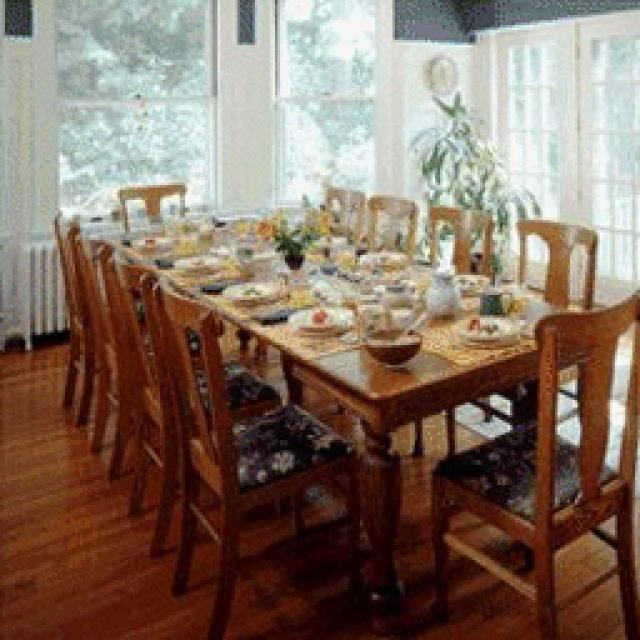2001: (275, 0, 372, 200)
bouquet: (255, 205, 328, 270)
bowl -X: (360, 325, 418, 365)
chair: (515, 218, 590, 308), (428, 202, 490, 272), (118, 182, 185, 228), (365, 195, 412, 255)
chair -occluded-: (152, 282, 358, 635), (428, 292, 638, 635), (120, 268, 175, 550), (88, 245, 130, 478), (52, 222, 95, 422)
cup and saucer: (475, 288, 510, 312)
doors crop: (472, 12, 638, 282)
pitcher: (418, 262, 455, 318)
place mat: (228, 292, 352, 355), (425, 312, 540, 360)
plant -x: (410, 105, 535, 248)
plate food: (445, 315, 518, 345), (288, 302, 350, 335), (218, 280, 280, 305), (352, 248, 408, 270), (162, 255, 220, 270)
radiator occluded: (8, 238, 68, 345)
table -X: (105, 205, 608, 610)
wall cupboard: (428, 58, 458, 92)
